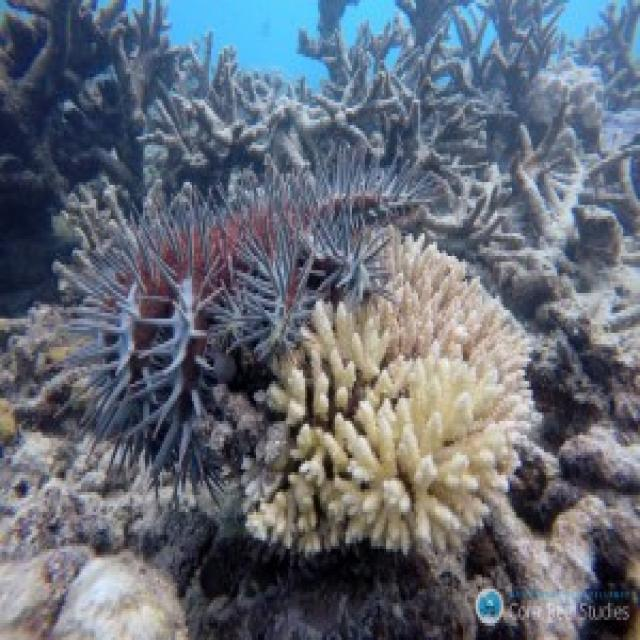Bleached: (246, 243, 528, 553), (475, 140, 640, 331), (308, 1, 564, 109), (106, 21, 234, 132), (48, 553, 191, 640), (29, 476, 157, 561)
Healthy: (61, 155, 423, 493)
